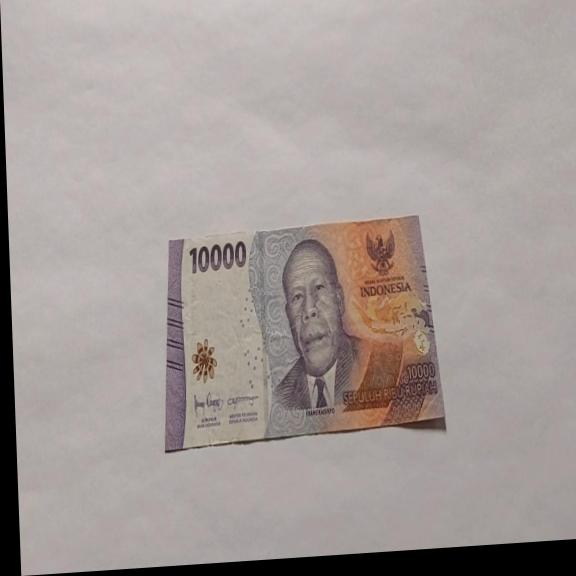Kertas: (156, 212, 447, 453), (187, 238, 247, 276)
